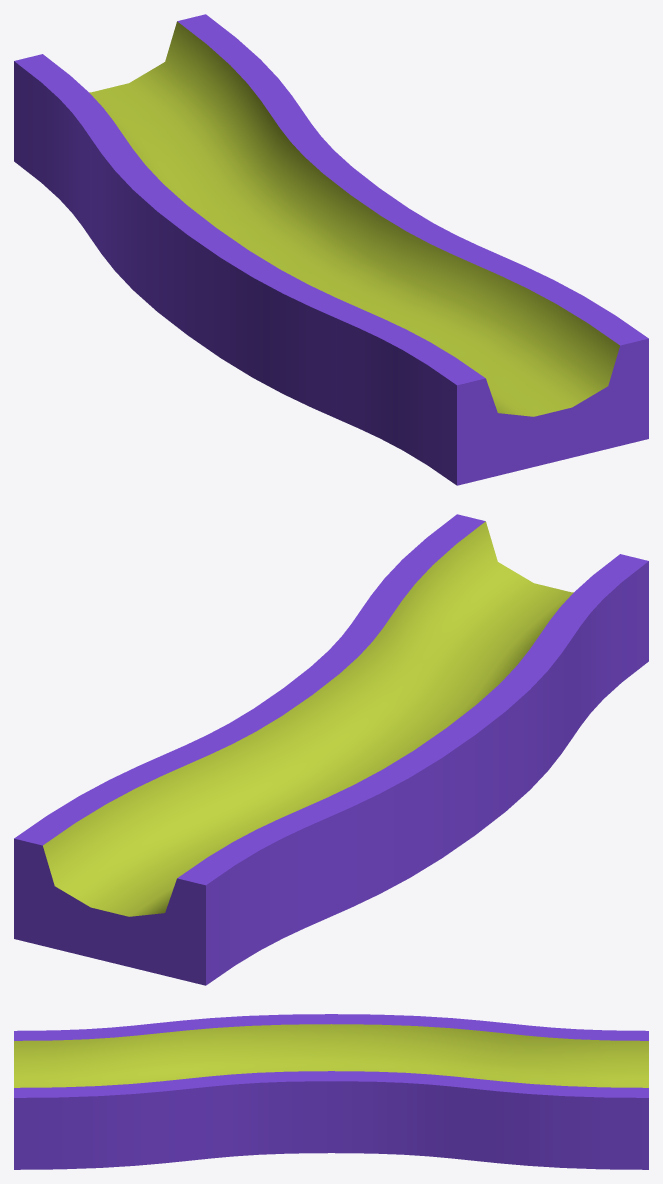
File: wave_A-col.dae
3 renders of one model, top to bottom at view 1: azimuth 30°, elevation 25°; view 2: azimuth 150°, elevation 25°; view 3: azimuth 270°, elevation 25°, orthographic. The views are drawn at different scales.
Parts seen in each view (by area): view 1: wave_A-col; view 2: wave_A-col; view 3: wave_A-col.
Boxes of the visible parts, <box> form: wave_A-col: <box>14,14,648,485</box>; wave_A-col: <box>14,514,648,985</box>; wave_A-col: <box>14,1014,648,1169</box>.
Size of the model in its own units: 1.25 by 4 by 0.5.
